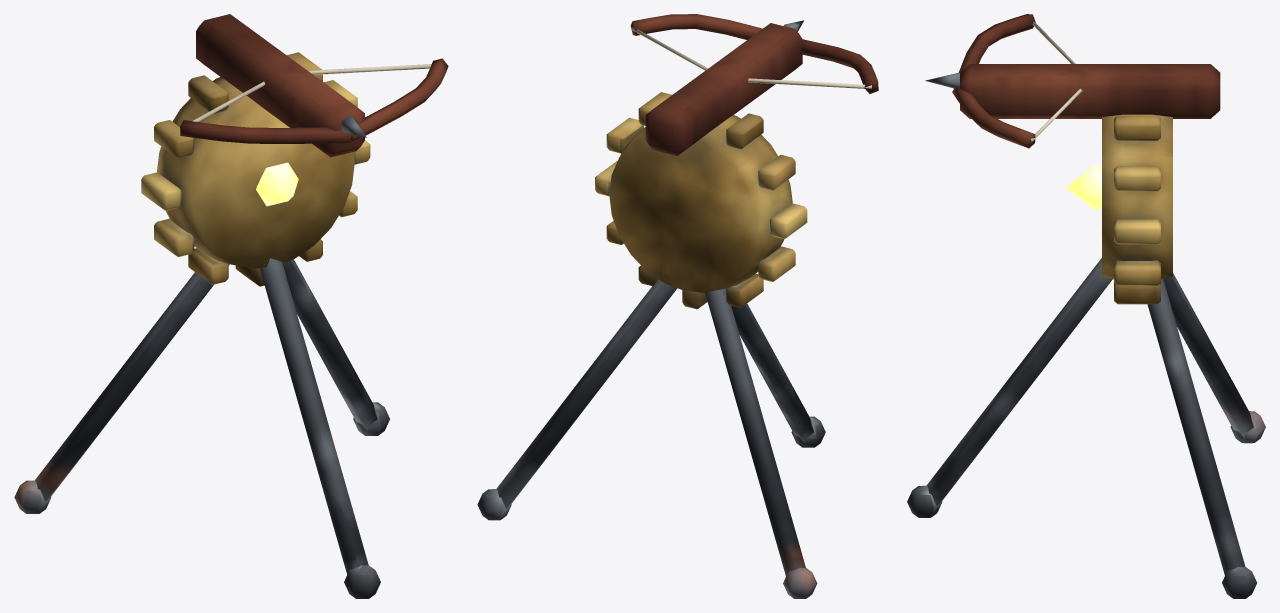
File: GearSentry.fbx
3 views of the same model, side by side, from view 1: azimuth 30°, elevation 25°; view 2: azimuth 150°, elevation 25°; view 3: azimuth 270°, elevation 25° (orthographic). The views are drawn at different scales.
Visible parts, largest first — view 1: GearSentry; view 2: GearSentry; view 3: GearSentry.
Part boxes in pixels (<box>): GearSentry: <box>14,14,448,598</box>; GearSentry: <box>477,14,878,598</box>; GearSentry: <box>907,14,1265,598</box>.
Size of the model in its own units: 0.3377 by 0.42 by 0.3036.
